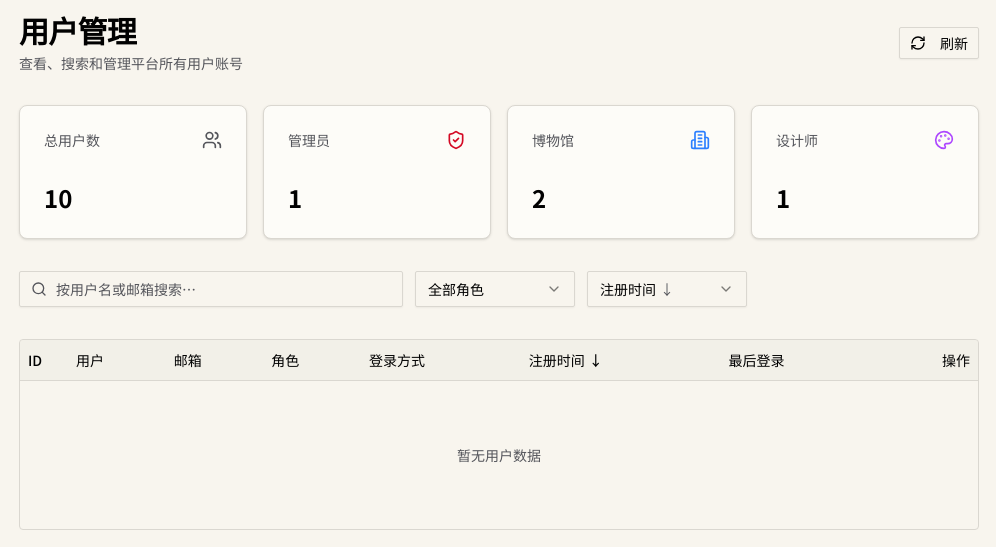
Test: P1：用户管理前端组件测试 › 3. 用户列表渲染 › TC-FE-16：有关键词但无结果时应渲染"没有找到符合条件的用户"
Step 1. Type "不存在的用户" into the field with placeholder "按用户名或邮箱搜索…" → point(211, 289), box x1=19 y1=271 x2=403 y2=307
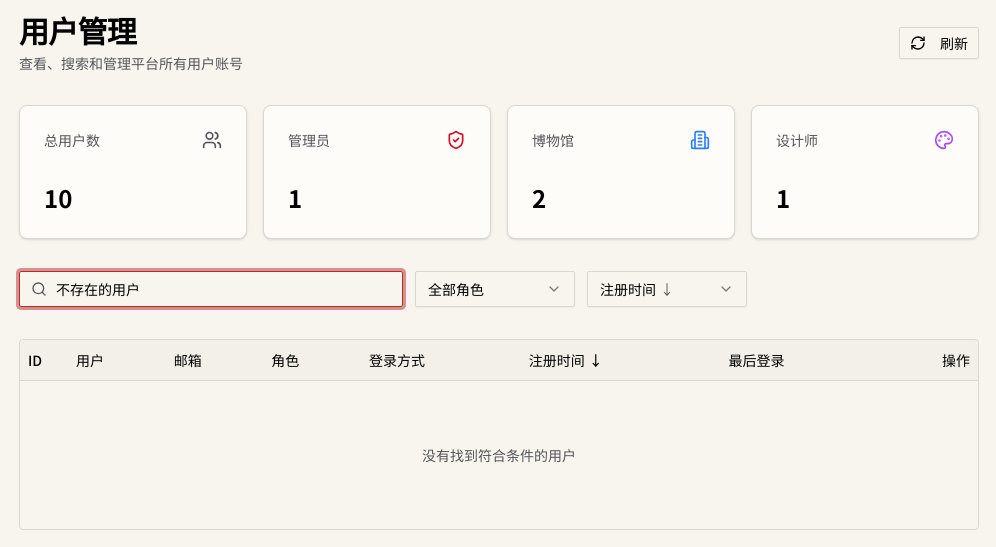
Check: the text "没有找到符合条件的用户" is shown, box x1=20 y1=380 x2=978 y2=528
